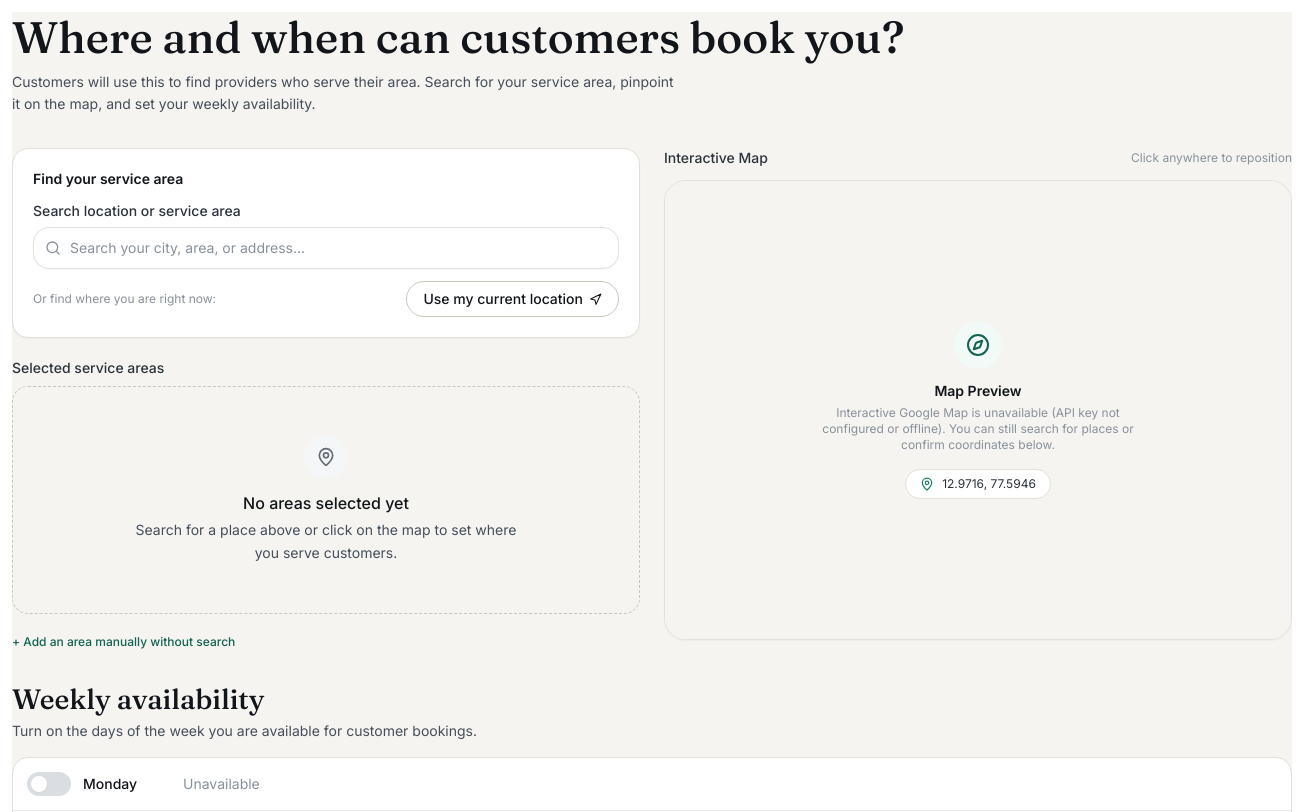
Test case: StepServiceArea › handles geolocation denial gracefully without crashing
The image size is (1304, 812).
Step 1. Click the button "Use my current location" → (513, 299), box [406,281,619,317]
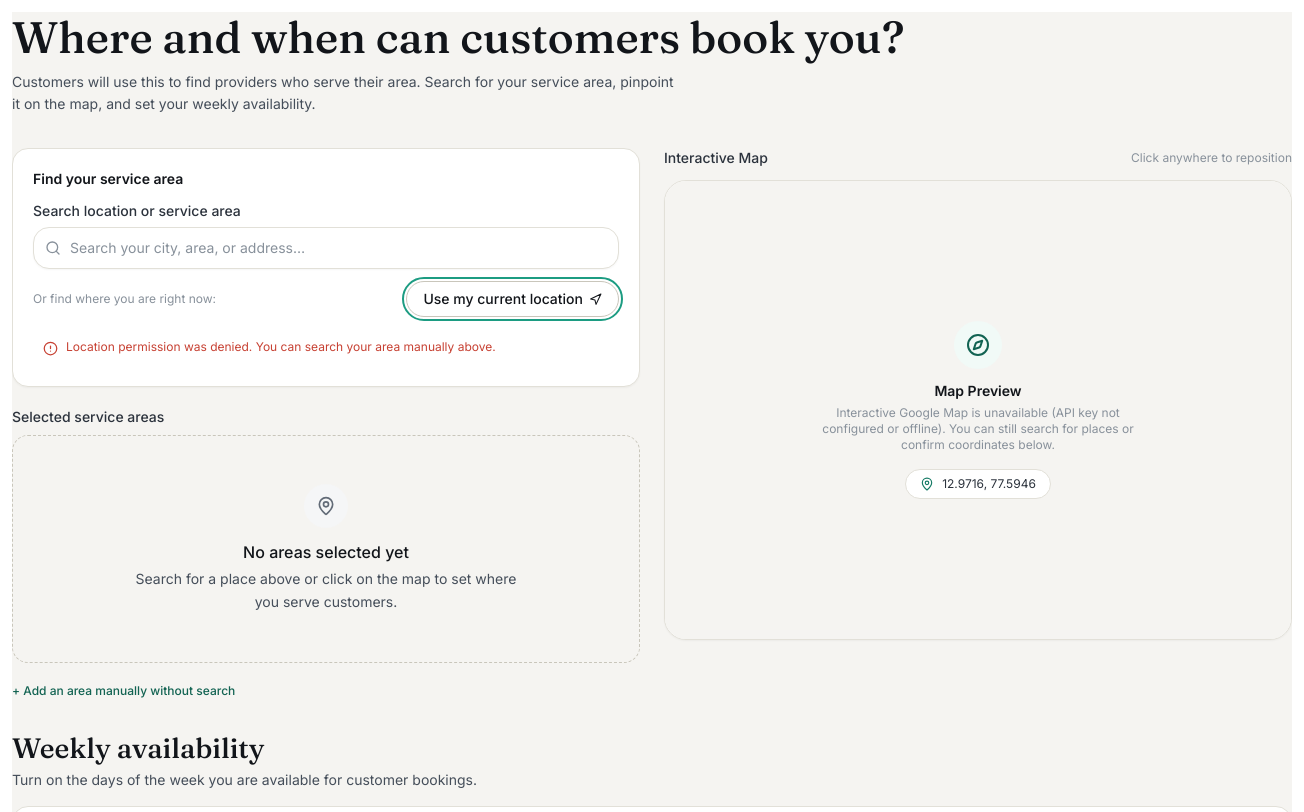
Now the text "Location permission was denied" is shown, box [66,339,496,354]
